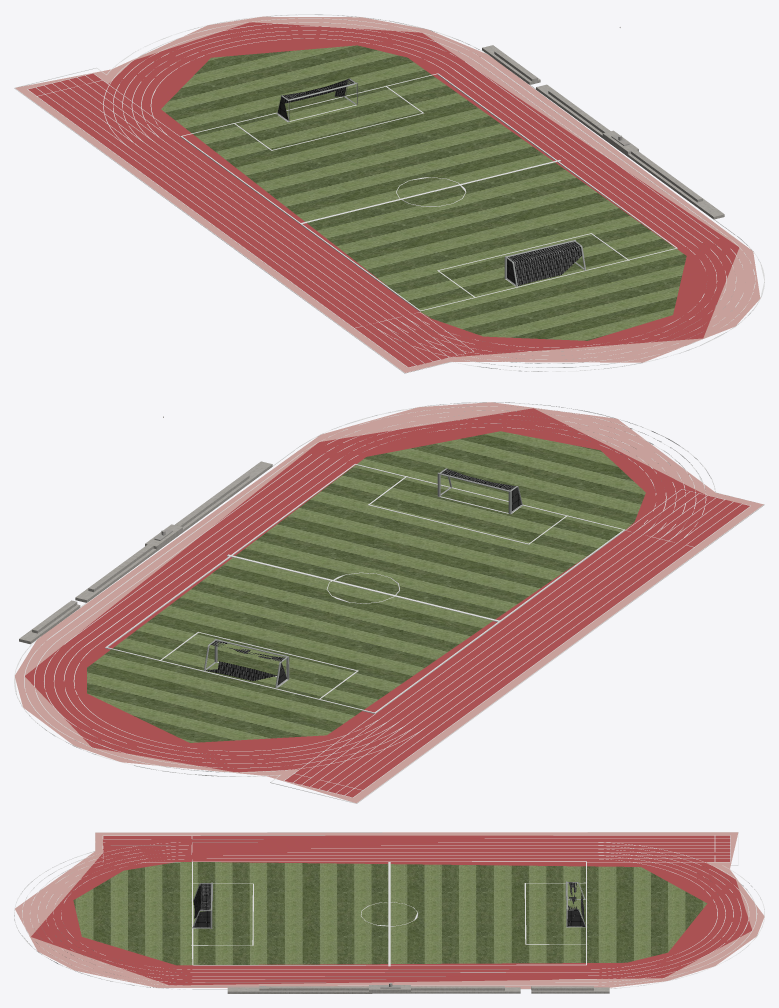
The model's file is Plastic_runway.glb.
3 renders of one model, top to bottom at view 1: azimuth 30°, elevation 25°; view 2: azimuth 150°, elevation 25°; view 3: azimuth 270°, elevation 25°, orthographic. The views are drawn at different scales.
Parts seen in each view (by area): view 1: Obj3d66-9179848-20-556, Obj3d66-9179848-15-348, Obj3d66-9179848-7-730, Obj3d66-9179848-19-698; view 2: Obj3d66-9179848-20-556, Obj3d66-9179848-15-348, Obj3d66-9179848-7-730, Obj3d66-9179848-19-698; view 3: Obj3d66-9179848-20-556, Obj3d66-9179848-15-348, Obj3d66-9179848-7-730, Obj3d66-9179848-19-698.
Boxes of the visible parts, bbox=[...] form: Obj3d66-9179848-20-556: bbox=[161, 45, 686, 340]; Obj3d66-9179848-15-348: bbox=[14, 14, 764, 373]; Obj3d66-9179848-7-730: bbox=[482, 45, 724, 219]; Obj3d66-9179848-19-698: bbox=[277, 79, 581, 285]; Obj3d66-9179848-20-556: bbox=[87, 431, 645, 742]; Obj3d66-9179848-15-348: bbox=[14, 402, 764, 803]; Obj3d66-9179848-7-730: bbox=[19, 461, 272, 644]; Obj3d66-9179848-19-698: bbox=[206, 469, 521, 685]; Obj3d66-9179848-20-556: bbox=[73, 862, 707, 965]; Obj3d66-9179848-15-348: bbox=[14, 832, 764, 989]; Obj3d66-9179848-7-730: bbox=[227, 985, 609, 993]; Obj3d66-9179848-19-698: bbox=[193, 882, 585, 927].
Size of the model in its own units: 17.55 by 5.01 by 34.48.
6 materials, 6 textured.
